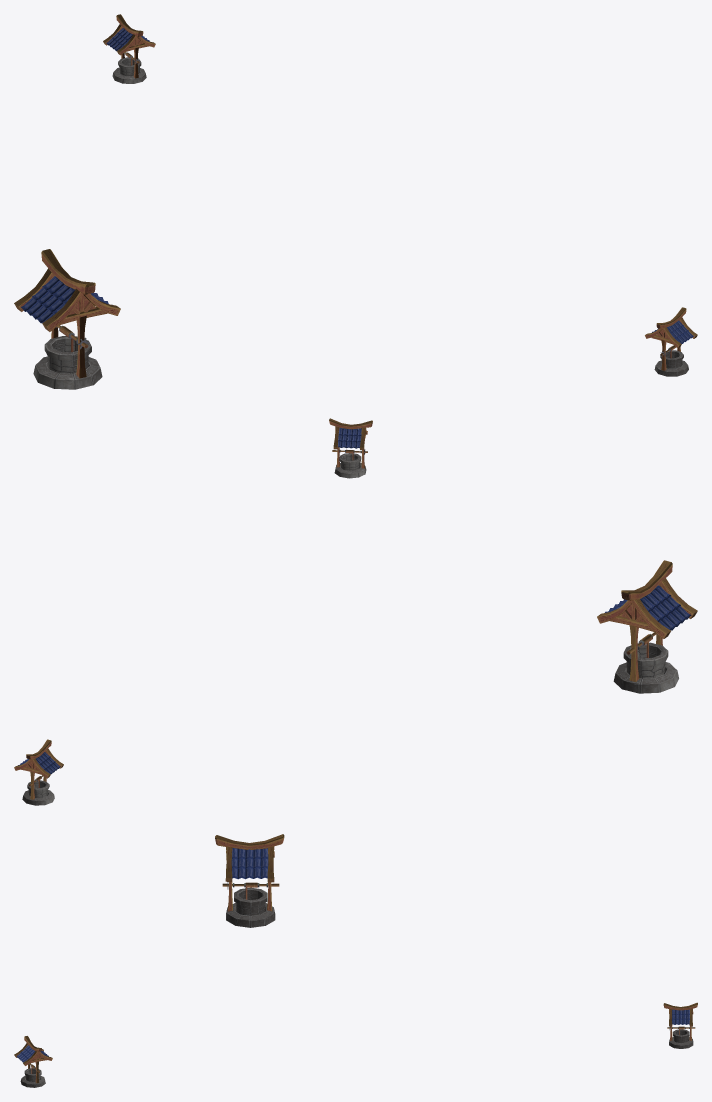
The model's file is WellBlock1.FBX.
The picture shows the model from 3 angles, top to bottom: view 1: azimuth 30°, elevation 25°; view 2: azimuth 150°, elevation 25°; view 3: azimuth 270°, elevation 25°; orthographic projection. The views are drawn at different scales.
Parts seen in each view (by area): view 1: Export_Well_Low_Export_pCylinder021; view 2: Export_Well_Low_Export_pCylinder021; view 3: Export_Well_Low_Export_pCylinder021.
Part boxes in pixels (box(x1,y1,x2,y2)): Export_Well_Low_Export_pCylinder021: box(14, 14, 697, 389); Export_Well_Low_Export_pCylinder021: box(14, 418, 697, 805); Export_Well_Low_Export_pCylinder021: box(14, 834, 697, 1087).
Bounding box in the file's own units: 4156 × 845 × 6415.
